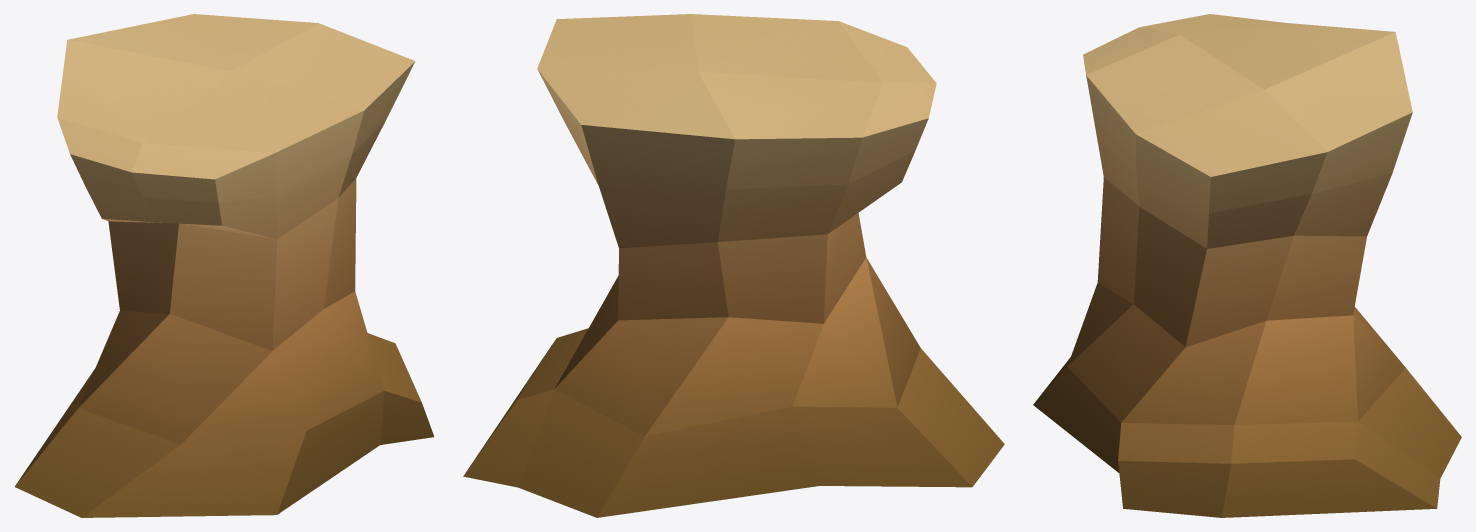
File: rock2.fbx
3 views of the same model, side by side, from view 1: azimuth 30°, elevation 25°; view 2: azimuth 150°, elevation 25°; view 3: azimuth 270°, elevation 25° (orthographic). The views are drawn at different scales.
Parts seen in each view (by area): view 1: Cube.004; view 2: Cube.004; view 3: Cube.004.
Part boxes in pixels (x1=…): Cube.004: x1=14, y1=14, x2=434, y2=517; Cube.004: x1=463, y1=14, x2=1004, y2=517; Cube.004: x1=1033, y1=14, x2=1461, y2=517.
Size of the model in its own units: 403 by 348 by 375.
